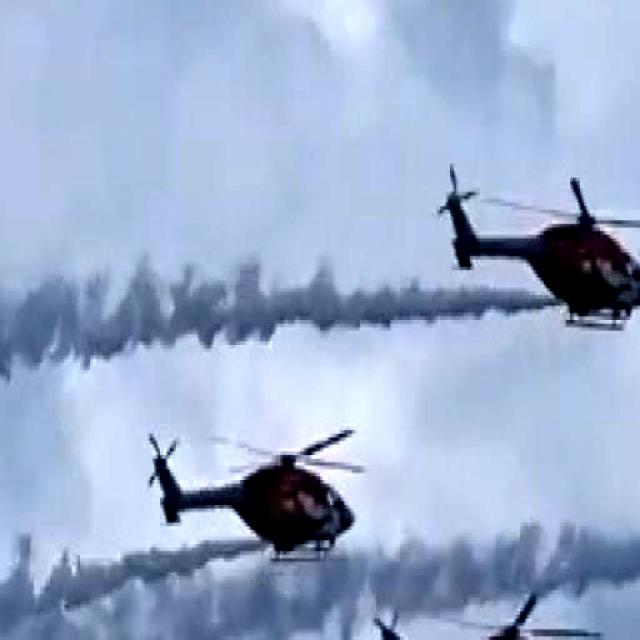drone: (138, 401, 369, 569), (434, 161, 640, 341), (365, 594, 604, 640)
